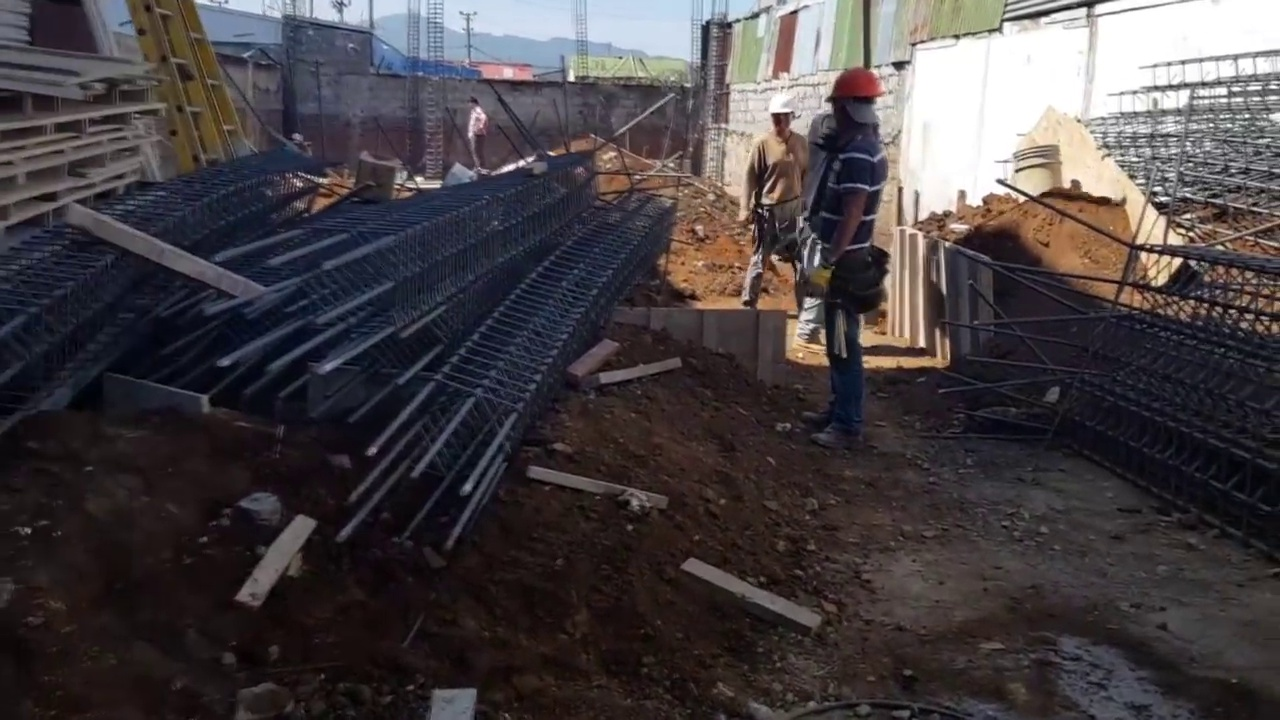helmet: (823, 65, 886, 101), (768, 92, 797, 122)
helmet-off: (467, 96, 479, 109)
helmet-on: (823, 64, 886, 136), (768, 91, 797, 138)
person: (812, 63, 890, 453), (740, 90, 821, 318), (467, 96, 487, 171)
